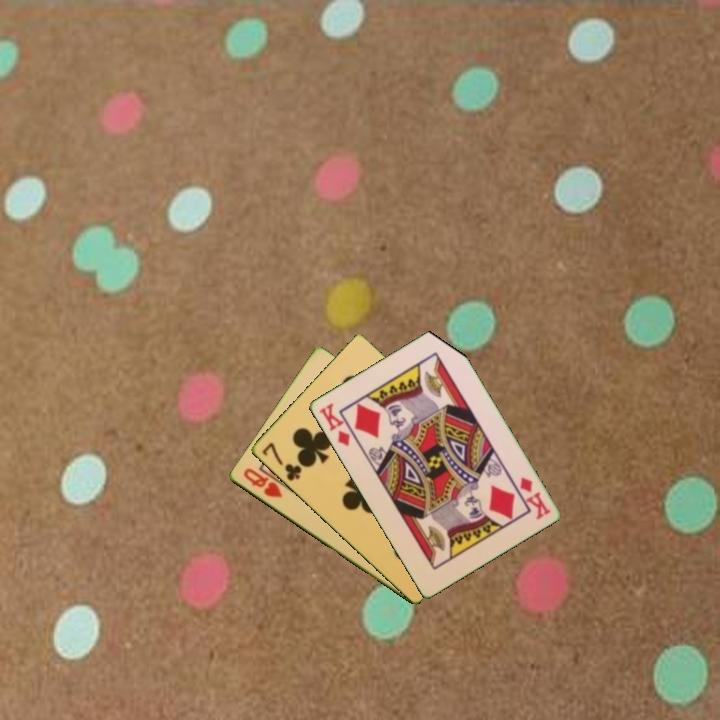7c: (258, 439, 304, 484)
Kd: (315, 399, 360, 449), (516, 473, 553, 522)
Qh: (240, 464, 285, 501)
